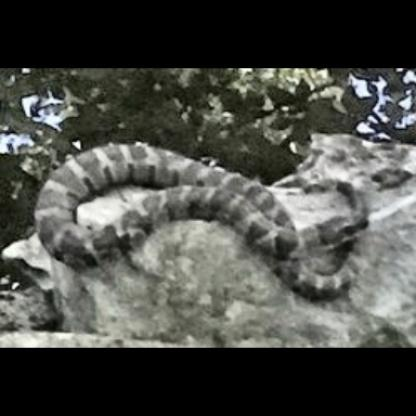Snake: (11, 130, 413, 337)
